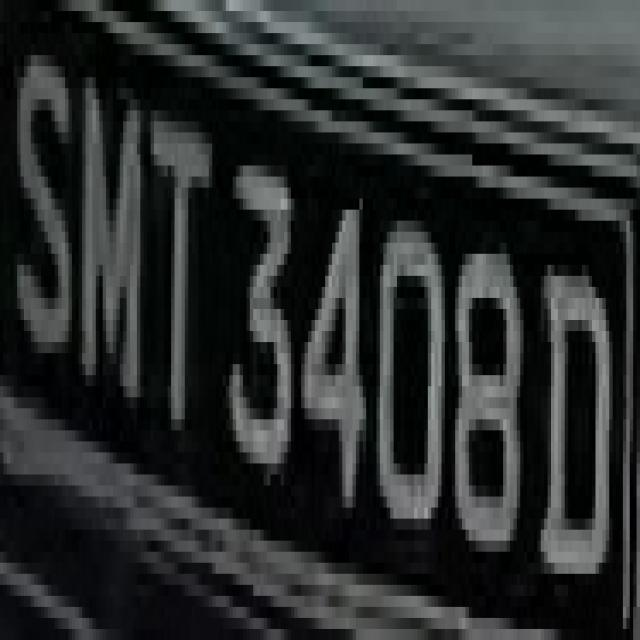0: (359, 198, 452, 552)
3: (226, 100, 301, 497)
4: (284, 166, 370, 518)
8: (438, 221, 524, 596)
D: (538, 232, 620, 618)
M: (75, 56, 151, 430)
S: (7, 11, 79, 419)
T: (134, 100, 215, 442)
